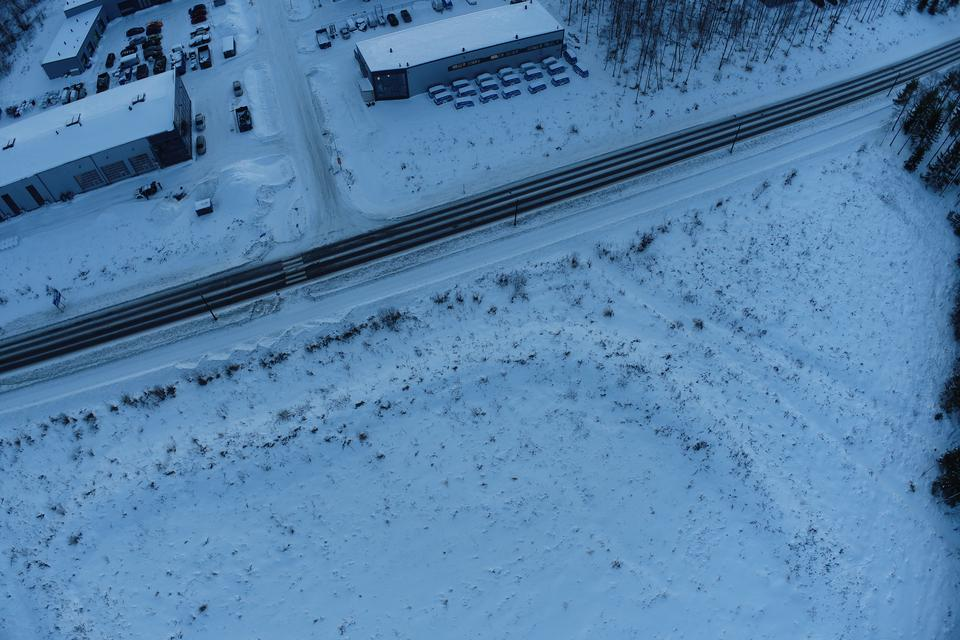intersection: (247, 176, 421, 327)
